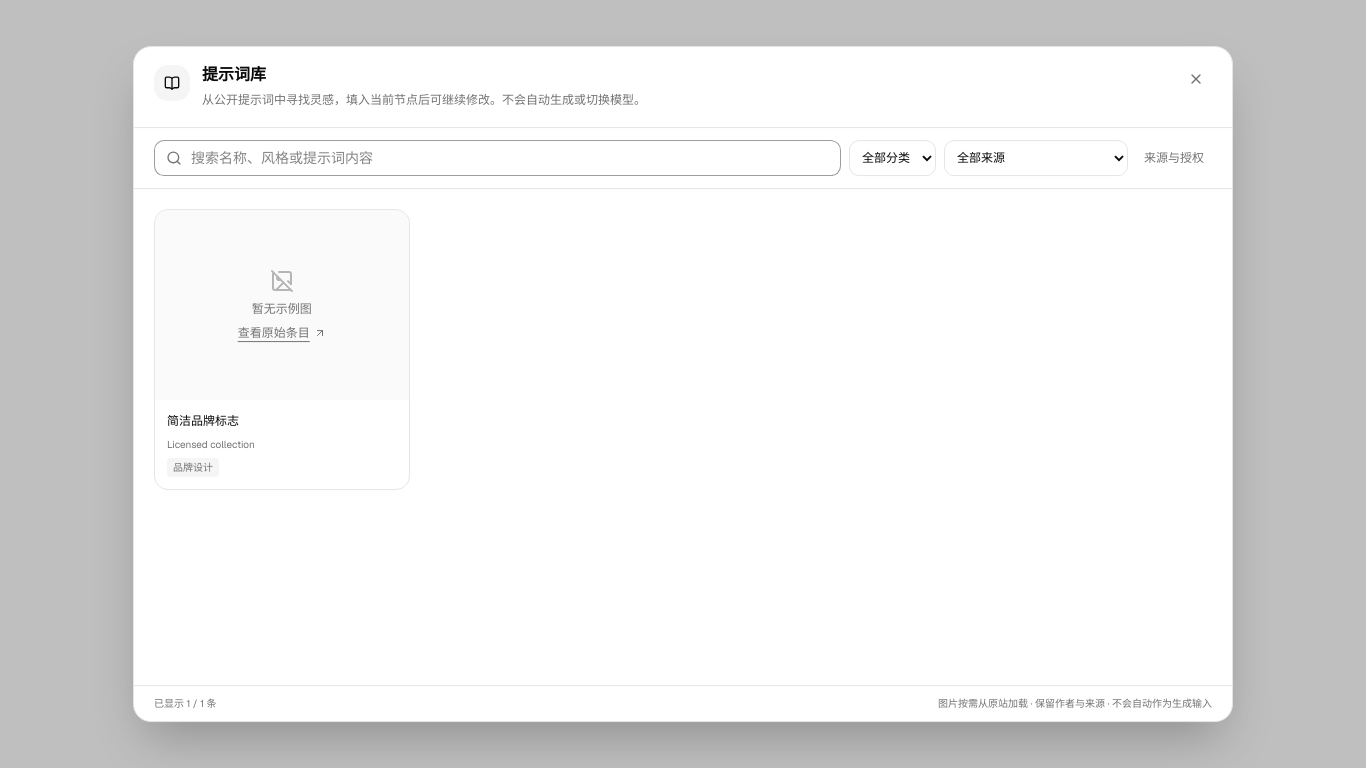
Scenario: prompt library dialog › shows all sources and explains link-only filtering
Click the button "来源与授权". click: (1174, 158)
box: left=1136, top=140, right=1212, bottom=176
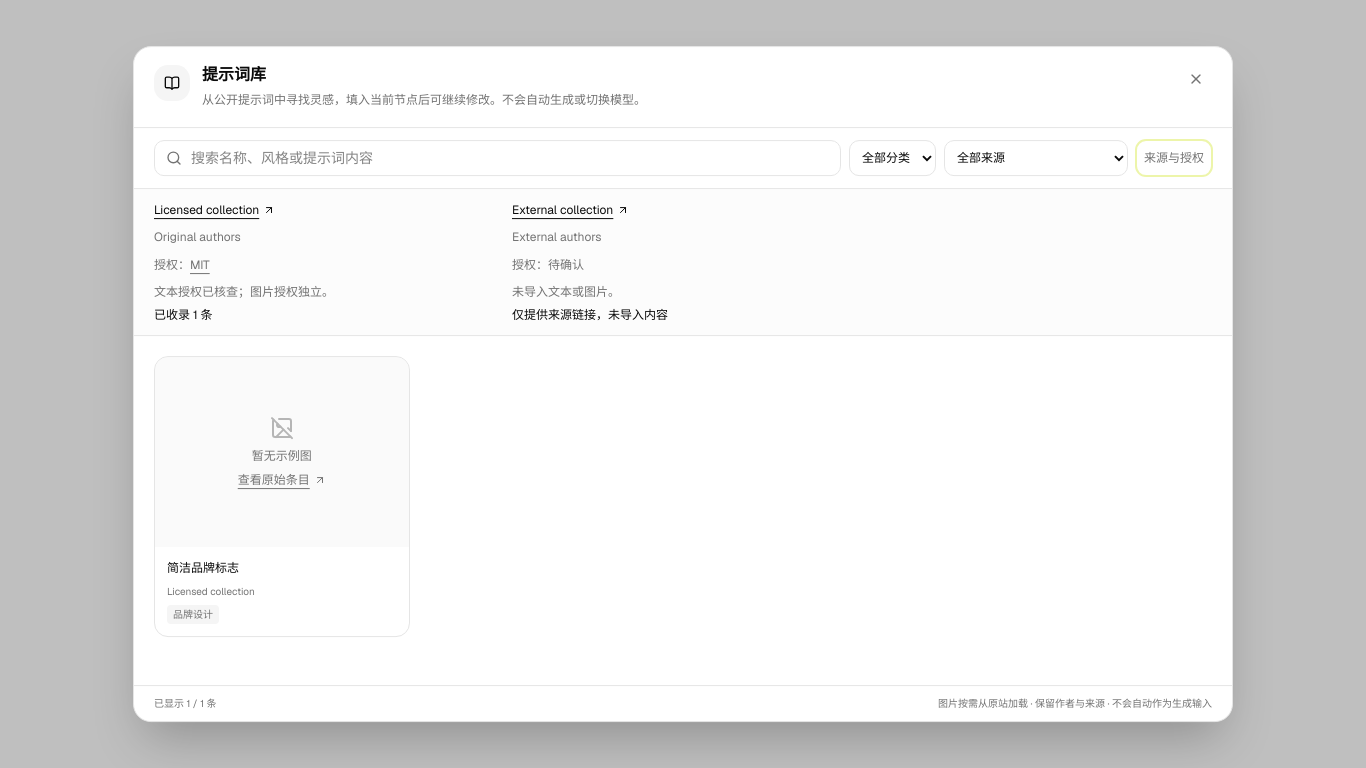
Check: the text "仅提供来源链接，未导入内容" is shown, box left=512, top=307, right=668, bottom=323
Select "External collection · 仅外链" in the dropdown named "提示词来源". click: (1036, 158)
box: left=944, top=140, right=1128, bottom=176
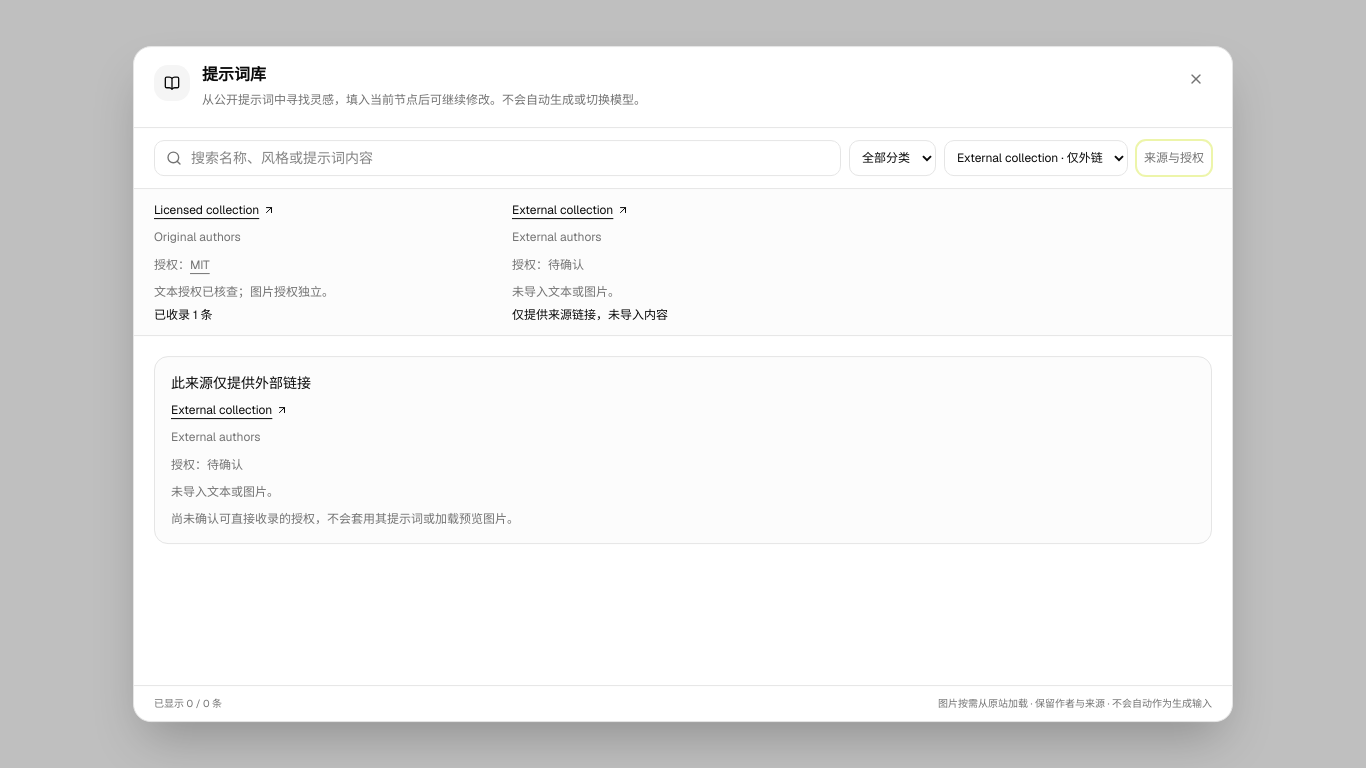
Check: the text "此来源仅提供外部链接" is shown, box left=171, top=374, right=311, bottom=392
